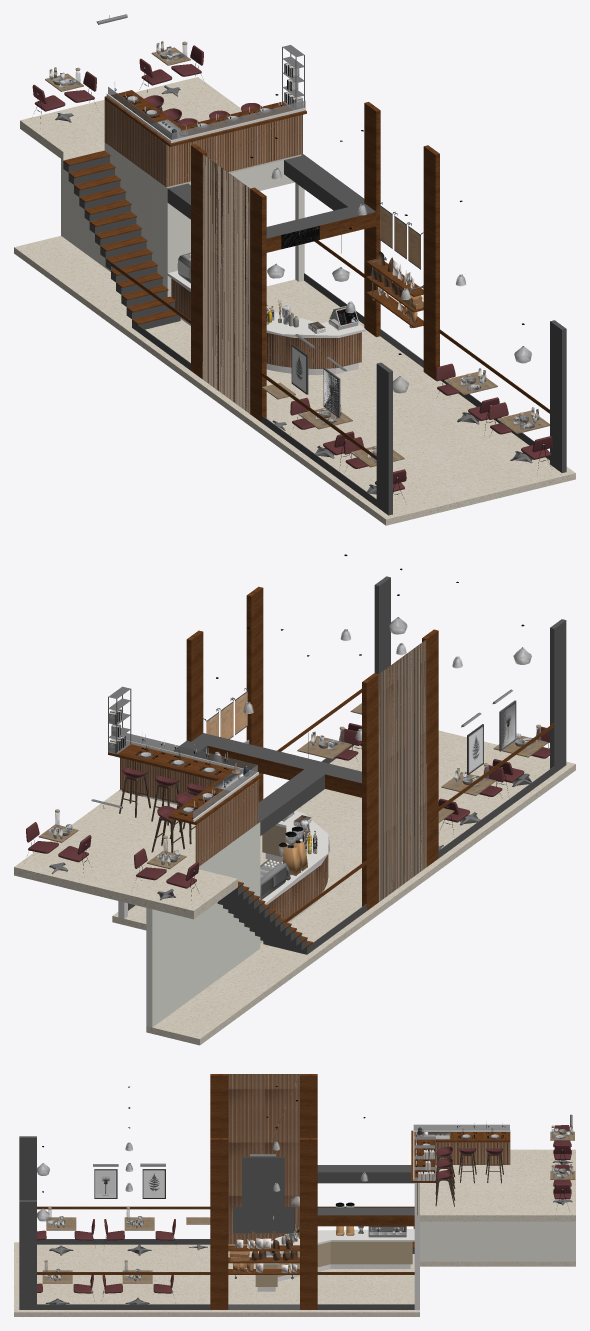
File: hero-desktop.glb
The picture shows the model from 3 angles, top to bottom: view 1: azimuth 30°, elevation 25°; view 2: azimuth 150°, elevation 25°; view 3: azimuth 270°, elevation 25°; orthographic projection. The views are drawn at different scales.
Visible parts, largest first — view 1: Try 7; view 2: Try 7; view 3: Try 7.
Boxes of the visible parts, <box> form: Try 7: <box>14,14,575,525</box>; Try 7: <box>14,554,575,1045</box>; Try 7: <box>14,1074,575,1316</box>.
Bounding box in the file's own units: 167 × 194 × 565.
100 materials, 45 textured.
